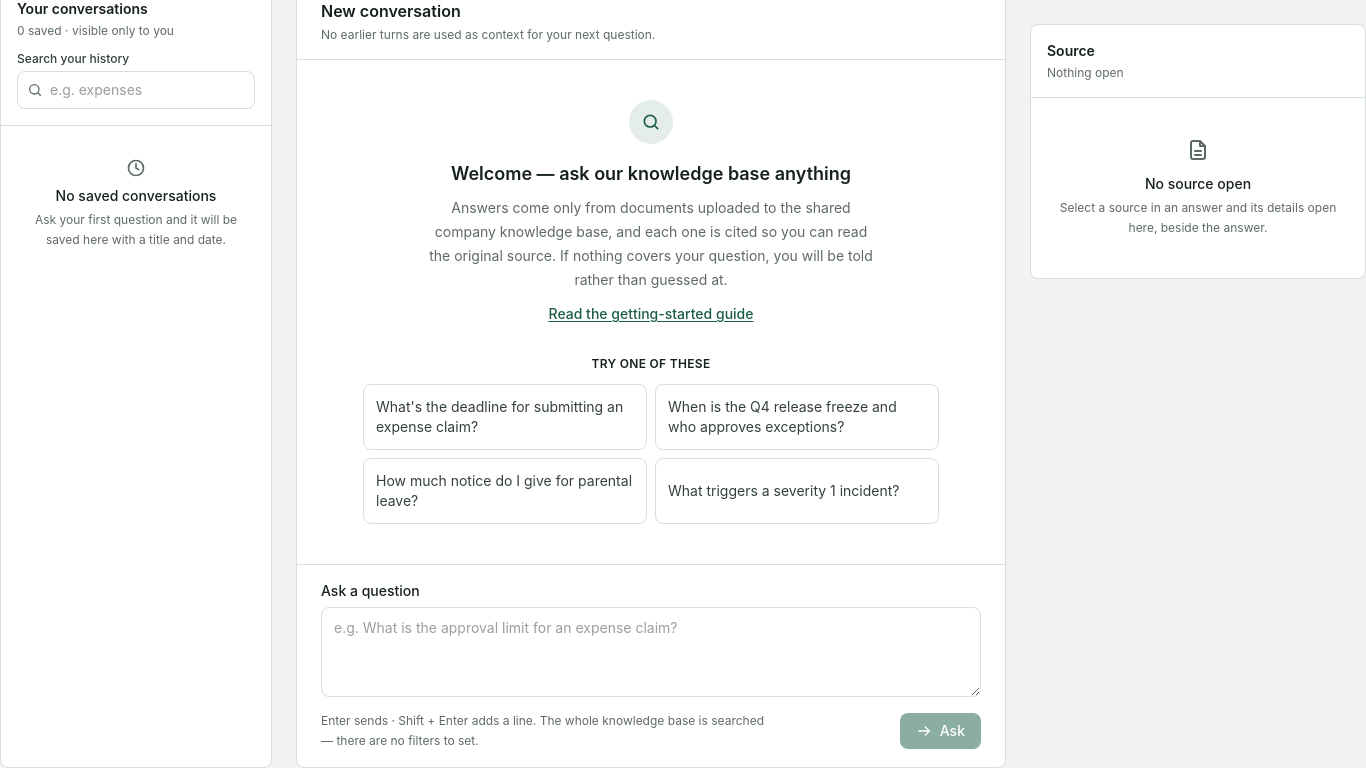
Test case: Chat screen › renders a partial answer with citations plus the uncovered-part statement (AC-101)
(page scrolled)
Type "Two part question?" into the text box labelled "Ask a question". click: (651, 652)
box: [321,607,981,697]
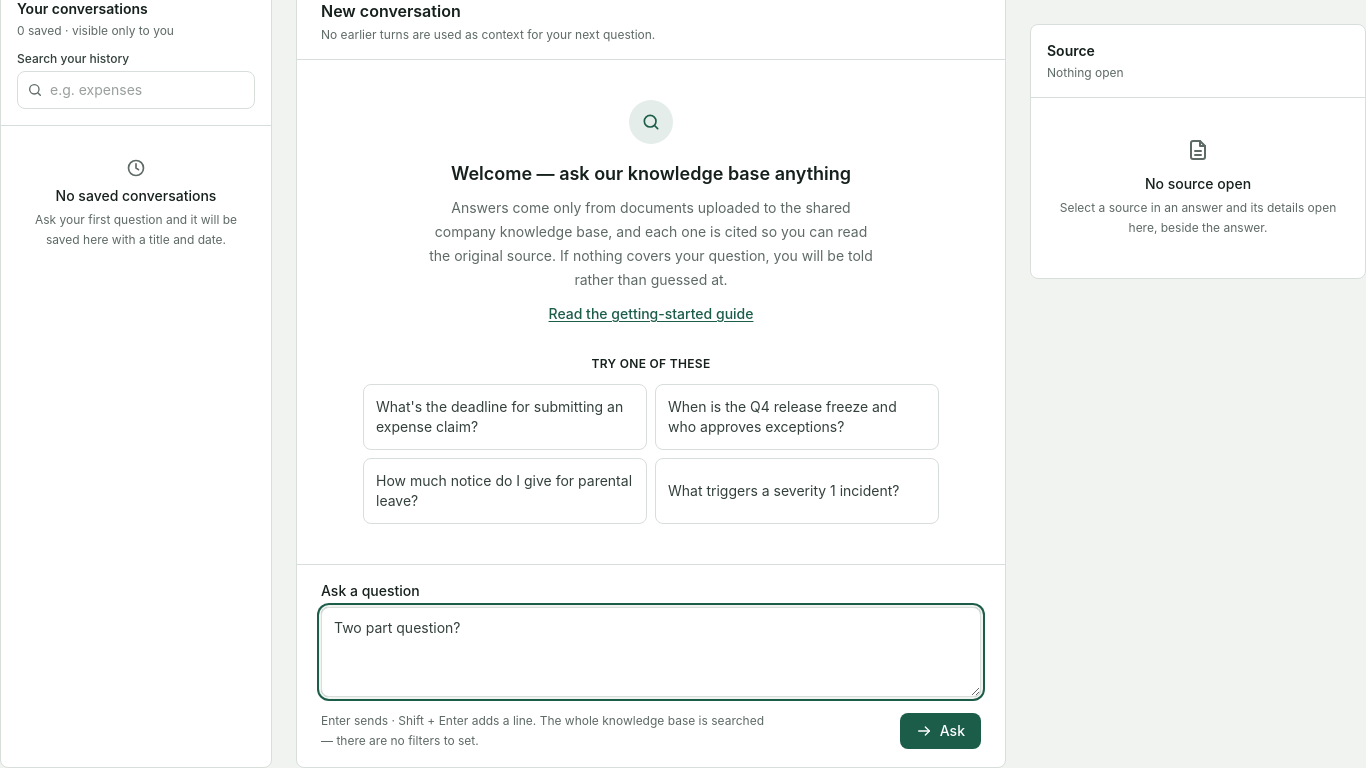
Click the button "Ask". click: click(940, 731)
box: [900,713,981,749]
(page scrolled)
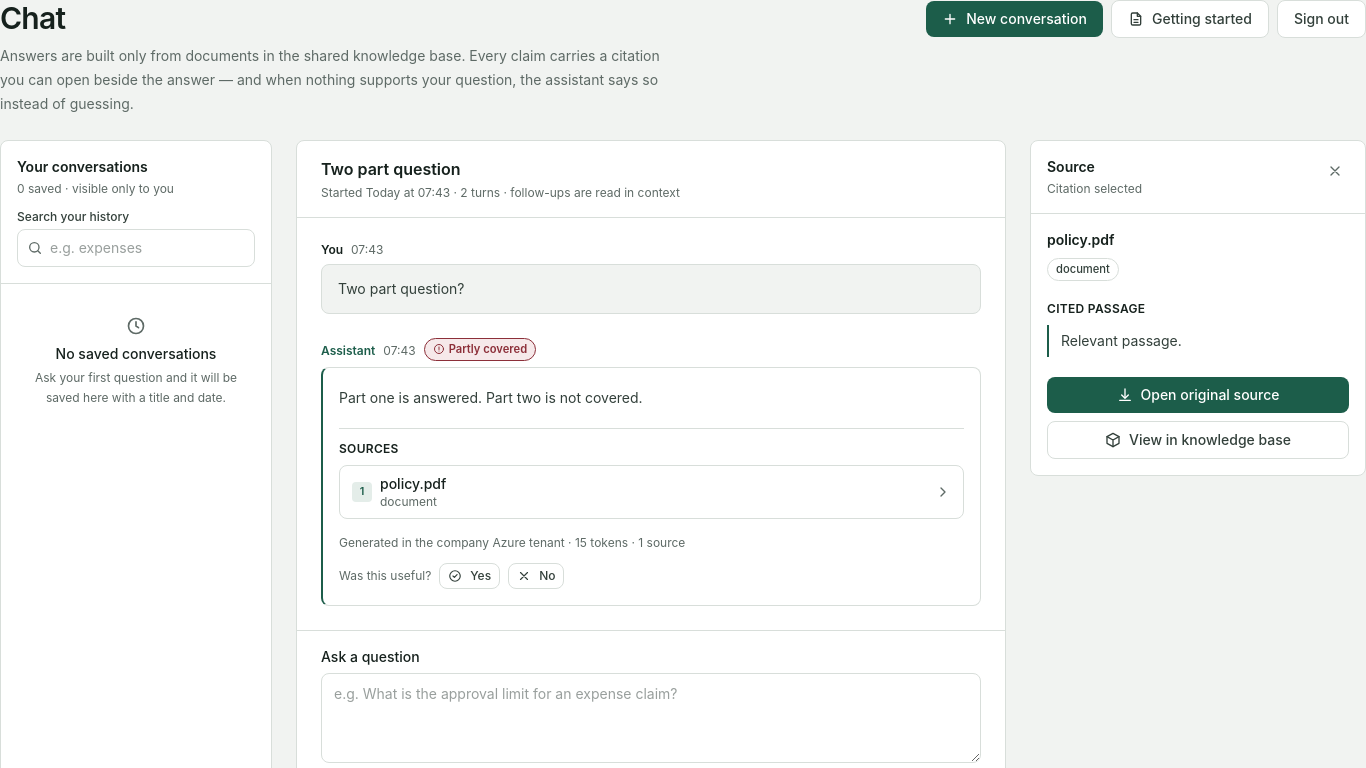
Check: the text "Partly covered" is shown, box [424,338,536,361]
Check: the heading "Sources" is shown, box [339,441,399,456]
